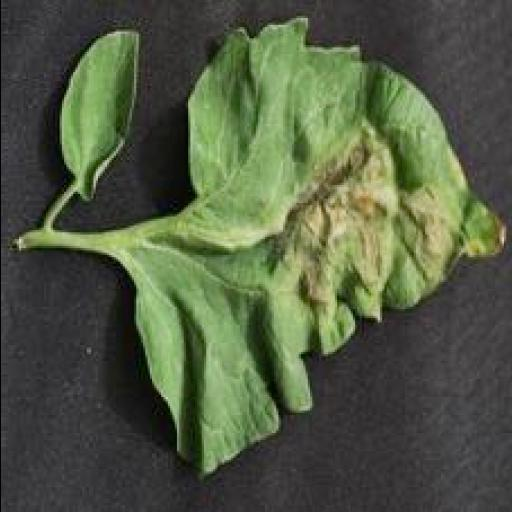Late Blight: (36, 14, 510, 488)
